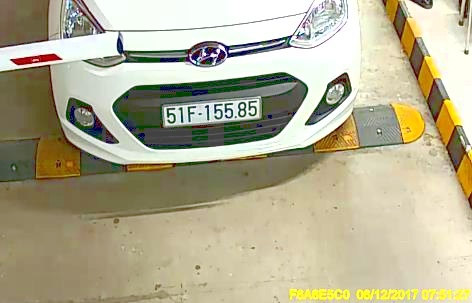plate: (158, 96, 267, 132)
